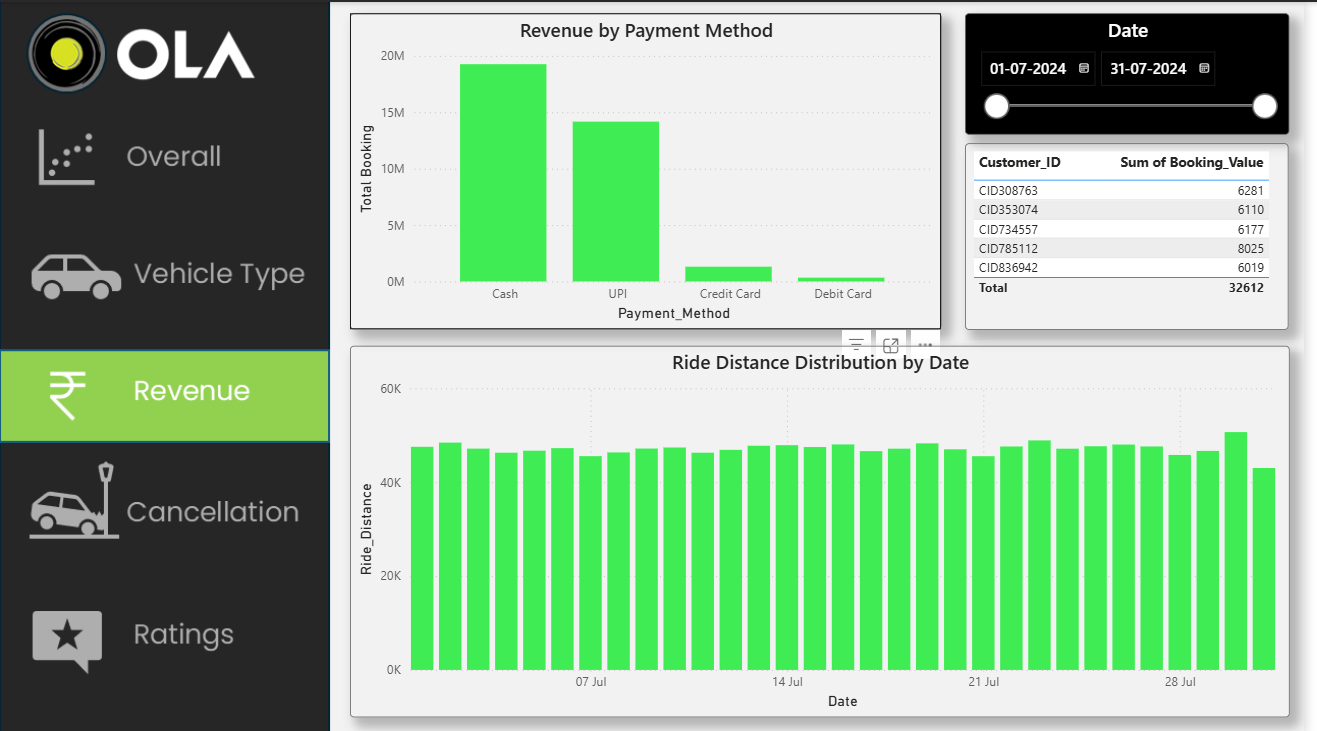

The dashboard page shown, as its layout file describes it:
{"tool":"powerbi","page":{"name":"Revenue","canvas":[1280,720],"ordinal":2},"visuals":[{"type":"actionButton","box":[0,108,322.7,96.9],"z":0},{"type":"actionButton","box":[1.2,223.3,322.7,96.9],"z":1000},{"type":"actionButton","box":[0,342.3,322.7,96.9],"z":2000},{"type":"actionButton","box":[0,450.3,322.7,96.9],"z":3000},{"type":"actionButton","box":[0,582.8,322.7,96.9],"z":4000},{"type":"columnChart","title":"Revenue by Payment Method ","fields":{"Y":["Sum(Bookings.Booking_Value)"],"Category":["Bookings.Payment_Method"]},"box":[343.1,11,580.4,310.1],"z":5000},{"type":"columnChart","title":"Ride Distance Distribution by Date ","fields":{"Y":["Sum(Bookings.Ride_Distance)"],"Category":["Bookings.Date"]},"box":[343.1,337.6,922.1,365],"z":6000},{"type":"slicer","title":"Date ","fields":{"Values":["Bookings.Date"]},"box":[946.8,11,318.4,119.4],"z":7000},{"type":"tableEx","title":"Top 5 Customer","fields":{"Values":["Bookings.Customer_ID","Sum(Bookings.Booking_Value)"]},"box":[947.2,138.7,317.8,182.8],"z":8000}]}

Visuals, with their boxes on the page's 1280x720 design canvas (x1, y1, x2, y2). These are canvas units, not pixel positions in the 1317x731 screenshot, which may show the page scaled, cropped or inside an application window:
actionButton: (x1=0, y1=108, x2=323, y2=205)
actionButton: (x1=1, y1=223, x2=324, y2=320)
actionButton: (x1=0, y1=342, x2=323, y2=439)
actionButton: (x1=0, y1=450, x2=323, y2=547)
actionButton: (x1=0, y1=583, x2=323, y2=680)
"Revenue by Payment Method " columnChart: (x1=343, y1=11, x2=924, y2=321)
"Ride Distance Distribution by Date " columnChart: (x1=343, y1=338, x2=1265, y2=703)
"Date " slicer: (x1=947, y1=11, x2=1265, y2=130)
"Top 5 Customer" tableEx: (x1=947, y1=139, x2=1265, y2=322)
